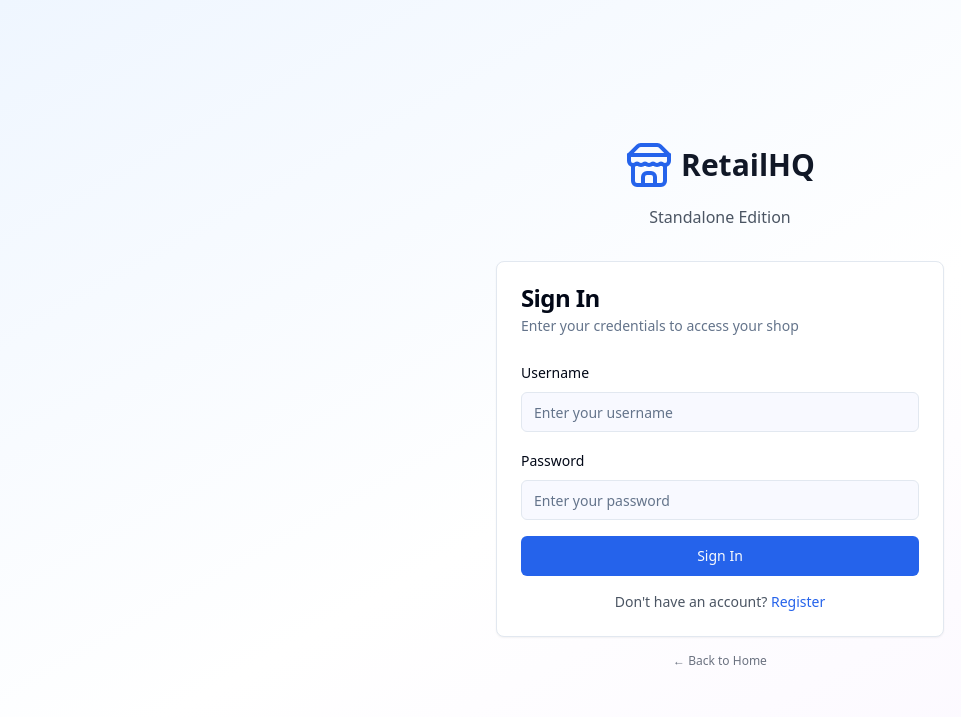
Test: EmbeddedLoginPage › Form Submission - Error Handling › should display error message when credentials are empty
This screenshot has width=961, height=717.
Click the button "Sign In" at (720, 556), box x1=521 y1=536 x2=919 y2=576
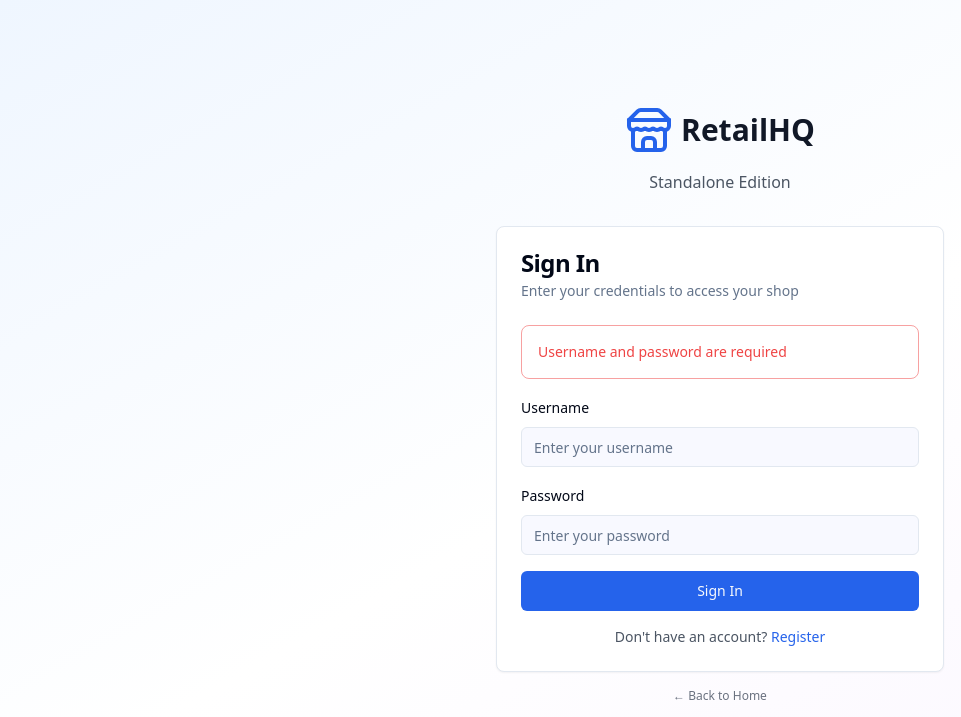
Expected: the message "Username and password are required" is shown, x1=521 y1=325 x2=919 y2=379
